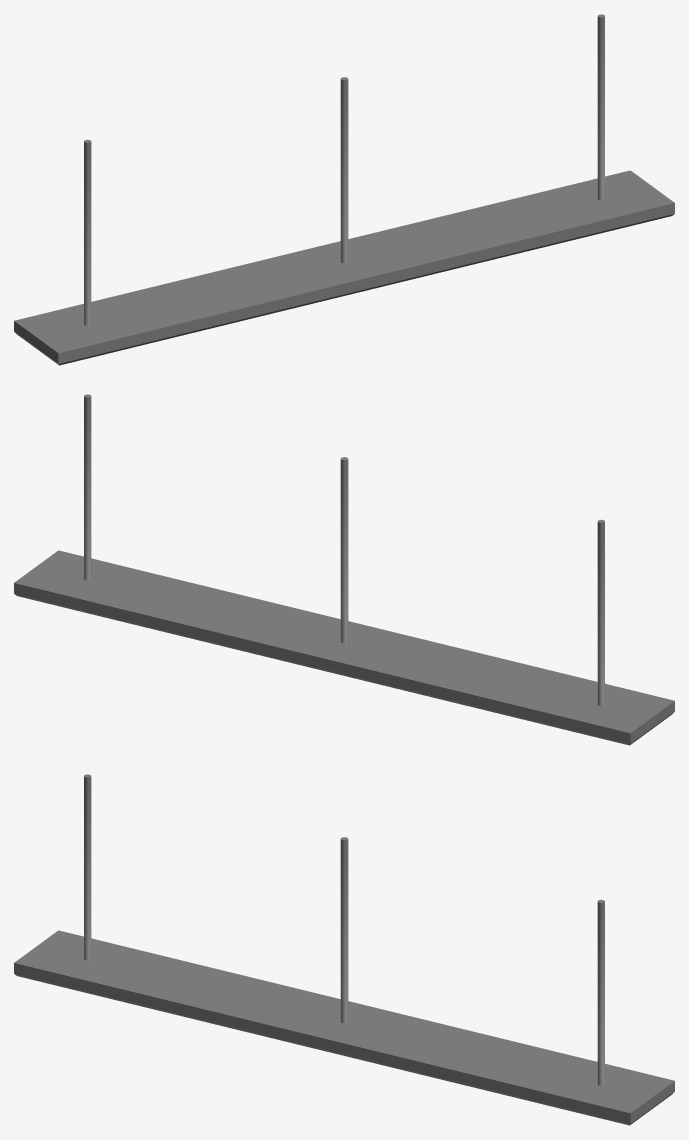
File: Lighting_WaitingArea.FBX
3 renders of one model, top to bottom at view 1: azimuth 30°, elevation 25°; view 2: azimuth 150°, elevation 25°; view 3: azimuth 330°, elevation 25°, orthographic.
Parts seen in each view (by area): view 1: Lighting_ceiling_WaitingArea_000; view 2: Lighting_ceiling_WaitingArea_000; view 3: Lighting_ceiling_WaitingArea_000.
Part boxes in pixels (x1,y1,x2,y2): Lighting_ceiling_WaitingArea_000: (14, 14, 674, 365); Lighting_ceiling_WaitingArea_000: (14, 394, 674, 745); Lighting_ceiling_WaitingArea_000: (14, 774, 674, 1125).
Bounding box in the file's own units: 94.49 × 28.95 × 11.81.
